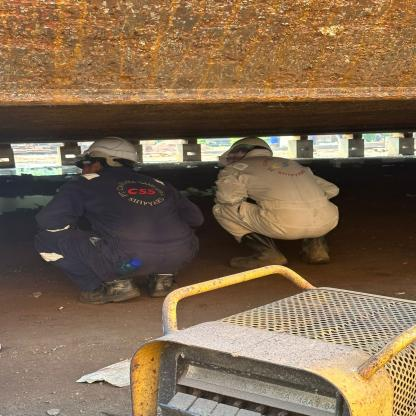bota: (224, 232, 288, 269), (74, 276, 142, 306), (296, 235, 334, 268), (148, 273, 184, 297)
capacete: (70, 132, 150, 165)
